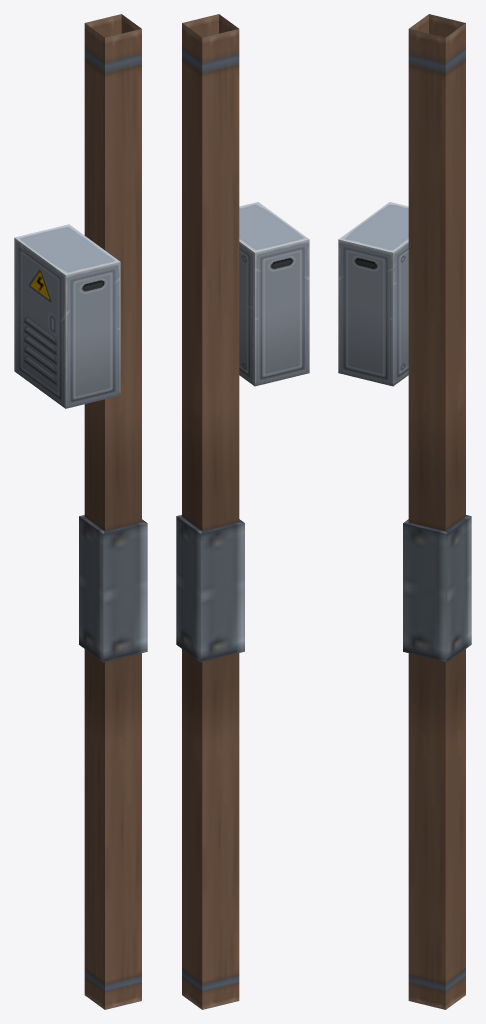
Rendered from power_pole.fbx.
The picture shows the model from 3 angles, left to right: view 1: azimuth 30°, elevation 25°; view 2: azimuth 210°, elevation 25°; view 3: azimuth 330°, elevation 25°; orthographic projection.
Visible parts, largest first — view 1: power_pole; view 2: power_pole; view 3: power_pole.
Part boxes in pixels (box(x1,y1,x2,y2)): power_pole: box(14, 14, 147, 1009); power_pole: box(176, 14, 309, 1009); power_pole: box(338, 14, 471, 1009).
Bounding box in the file's own units: 0.7473 × 7.27 × 0.6965.
